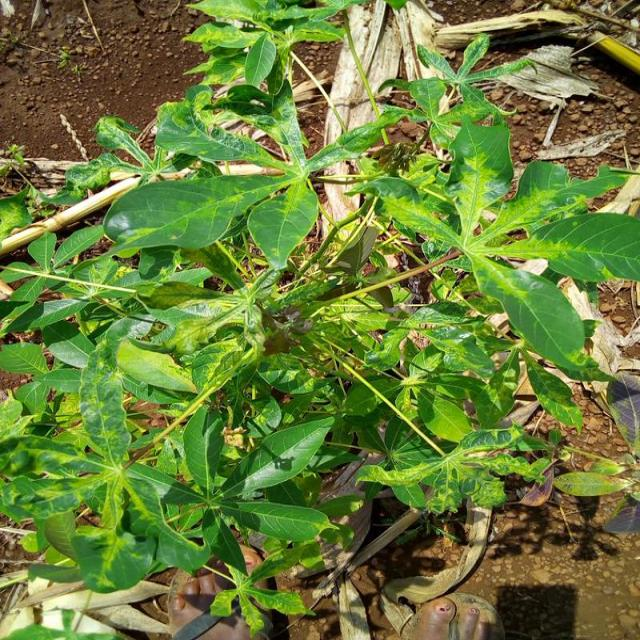cassava leaf: (0, 8, 638, 616)
